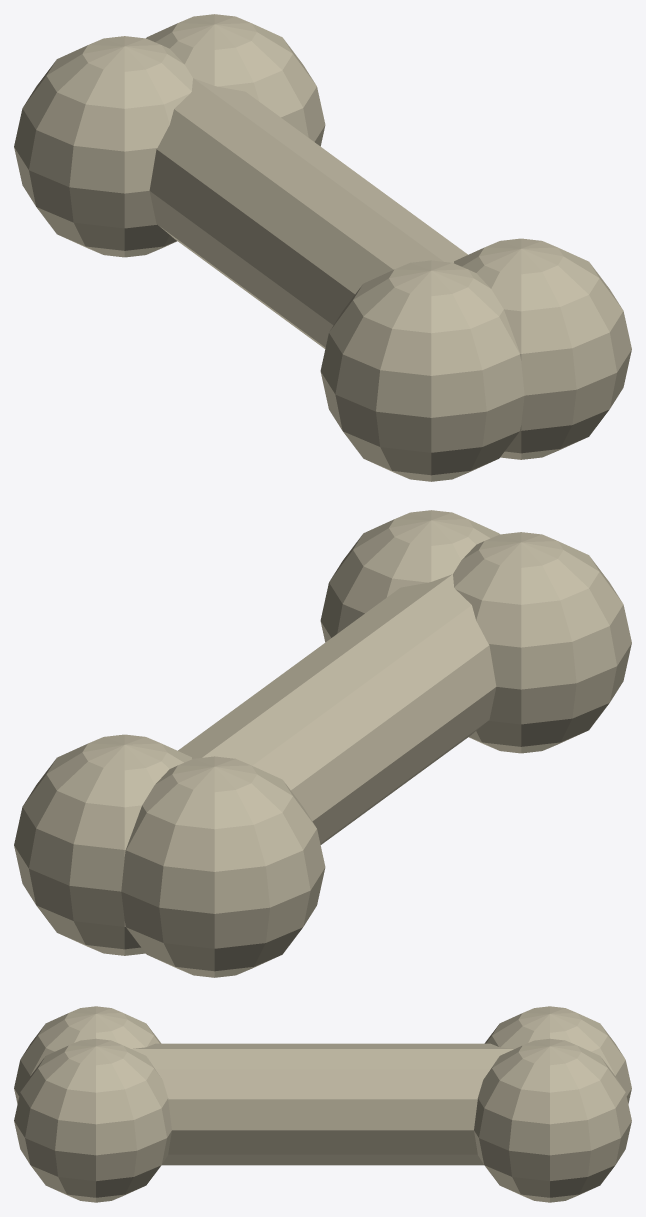
File: chicken-bone.glb
3 views of the same model, one above another, from view 1: azimuth 30°, elevation 25°; view 2: azimuth 150°, elevation 25°; view 3: azimuth 270°, elevation 25° (orthographic). The views are drawn at different scales.
Parts seen in each view (by area): view 1: chicken-bone; view 2: chicken-bone; view 3: chicken-bone.
Part boxes in pixels (x1,y1,x2,y2): chicken-bone: (14, 14, 631, 481); chicken-bone: (14, 510, 631, 977); chicken-bone: (14, 1006, 631, 1202).
Bounding box in the file's own units: 0.1053 × 0.0717 × 0.27.
